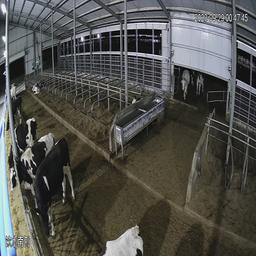cow: (18, 138, 80, 240), (99, 222, 145, 256), (4, 119, 42, 160), (8, 143, 38, 193), (3, 95, 25, 124), (174, 67, 191, 103), (195, 66, 207, 110), (31, 77, 45, 99)
